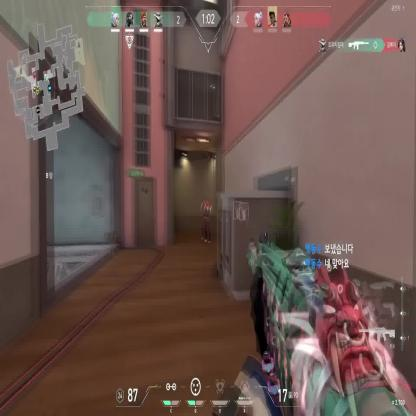enemy: (200, 199, 212, 245)
enemy_head: (205, 199, 209, 206)
